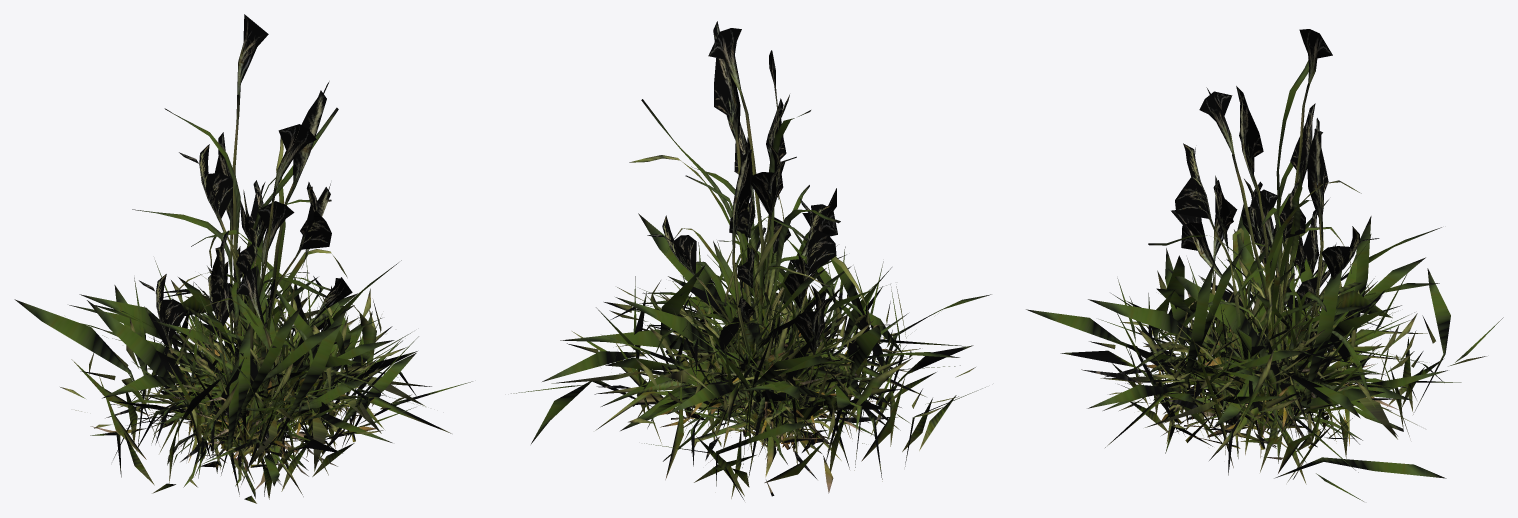
The model's file is plant_grass_kit.glb.
3 views of the same model, side by side, from view 1: azimuth 30°, elevation 25°; view 2: azimuth 150°, elevation 25°; view 3: azimuth 270°, elevation 25° (orthographic). The views are drawn at different scales.
Parts seen in each view (by area): view 1: grass_00, grass_02, grass_09, grass_08, grass_05, grass_01, grass_03, grass_10, grass_06, grass_04, grass_07; view 2: grass_00, grass_02, grass_01, grass_08, grass_09, grass_10, grass_04, grass_05, grass_03, grass_06, grass_07; view 3: grass_00, grass_02, grass_01, grass_09, grass_08, grass_10, grass_03, grass_05, grass_04, grass_07, grass_06.
Boxes of the visible parts, x1,y1,x2,y2 form: grass_00: (14, 235, 417, 503); grass_02: (95, 265, 472, 488); grass_09: (174, 81, 347, 412); grass_08: (132, 14, 338, 352); grass_05: (152, 277, 397, 484); grass_01: (118, 246, 451, 471); grass_03: (156, 183, 376, 481); grass_10: (139, 132, 350, 443); grass_06: (147, 283, 360, 498); grass_04: (90, 227, 345, 496); grass_07: (164, 314, 386, 486); grass_00: (511, 213, 991, 500); grass_02: (542, 216, 965, 479); grass_01: (551, 225, 925, 466); grass_08: (639, 28, 840, 432); grass_09: (629, 21, 869, 436); grass_10: (680, 137, 849, 450); grass_04: (619, 203, 908, 496); grass_05: (601, 225, 901, 445); grass_03: (661, 122, 869, 452); grass_06: (633, 227, 910, 464); grass_07: (647, 281, 874, 461); grass_00: (1026, 199, 1503, 501); grass_02: (1081, 229, 1447, 472); grass_01: (1100, 215, 1442, 475); grass_09: (1165, 86, 1361, 437); grass_08: (1148, 29, 1379, 432); grass_10: (1171, 118, 1356, 424); grass_03: (1151, 175, 1391, 429); grass_05: (1131, 204, 1411, 463); grass_04: (1119, 217, 1407, 479); grass_07: (1126, 285, 1403, 460); grass_06: (1150, 259, 1362, 440).
Bounding box in the file's own units: 0.3166 × 0.3225 × 0.3266.
1 material, 1 textured.
